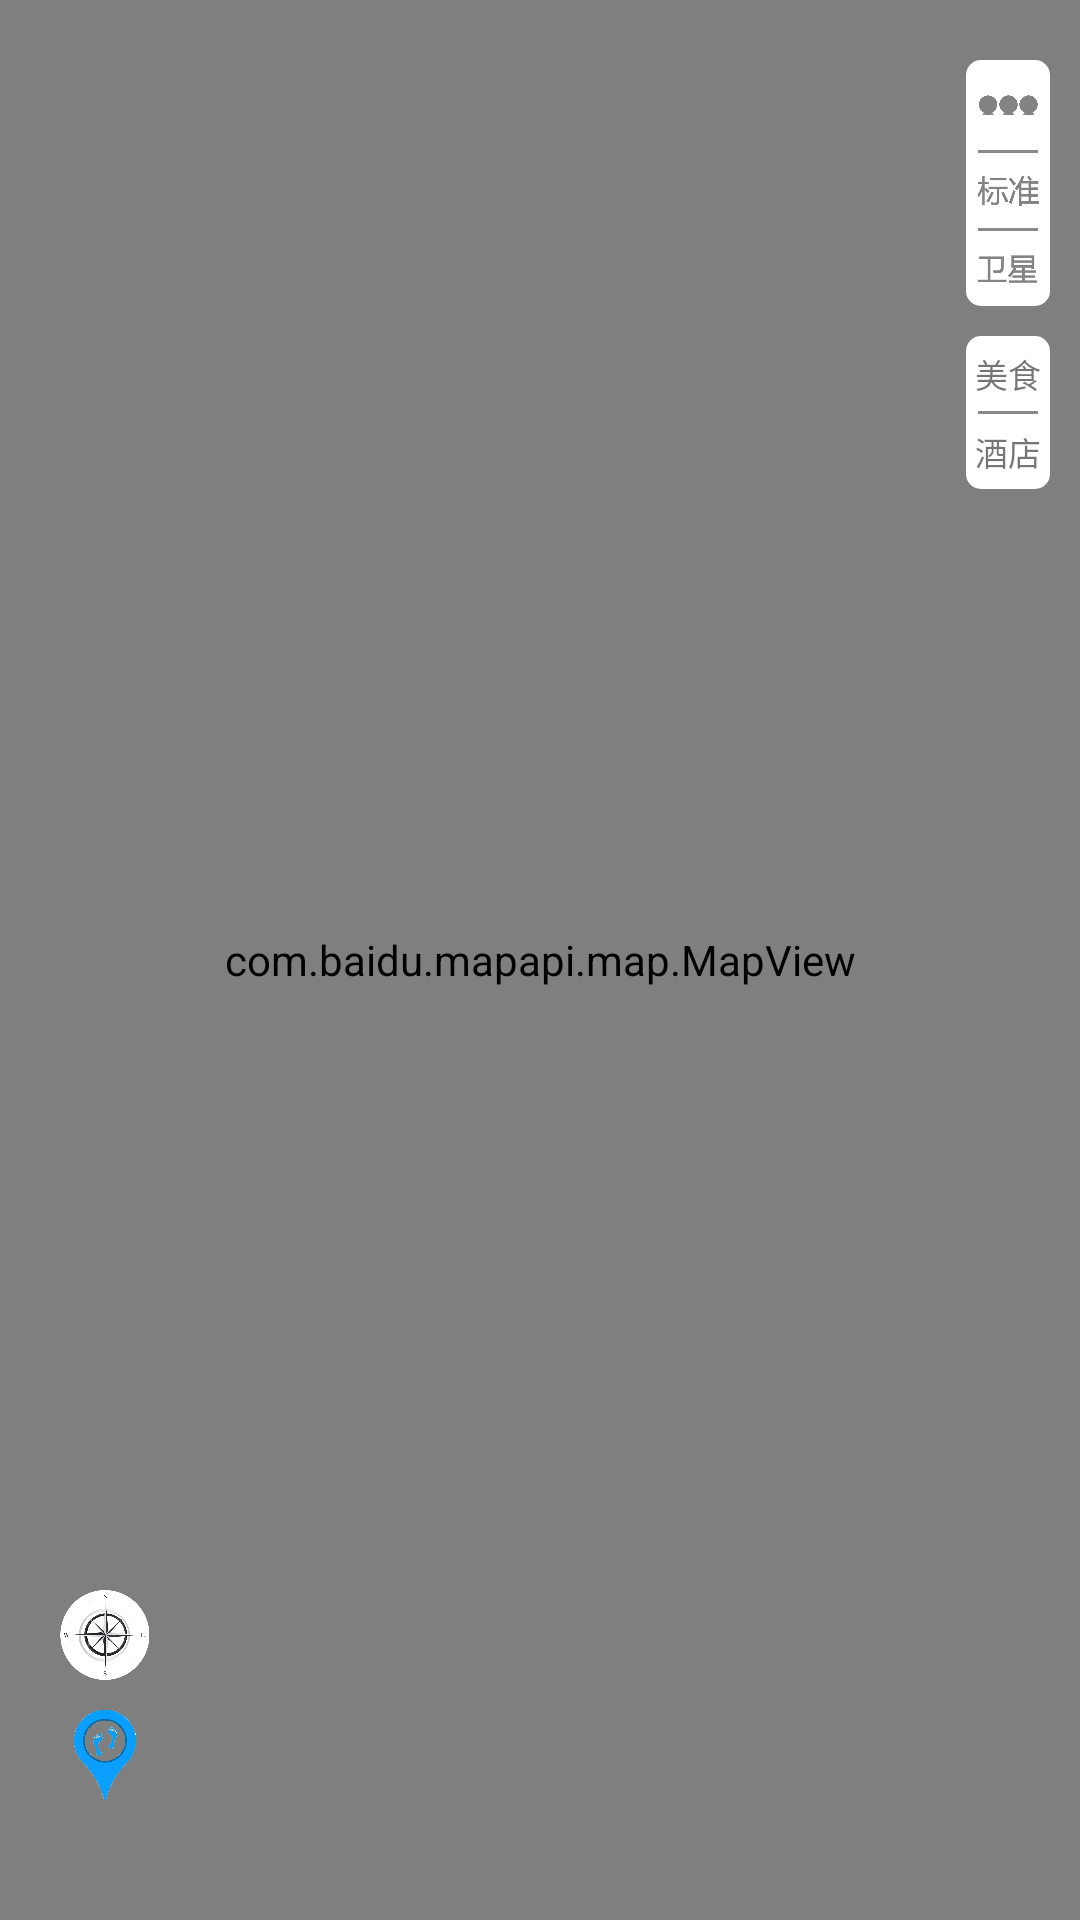

Named icons in this screenshot (1080px×1920px) and their centers, [x,y]:
compass: [104,1635]
location: [105,1755]
traffic off: [1008,105]
